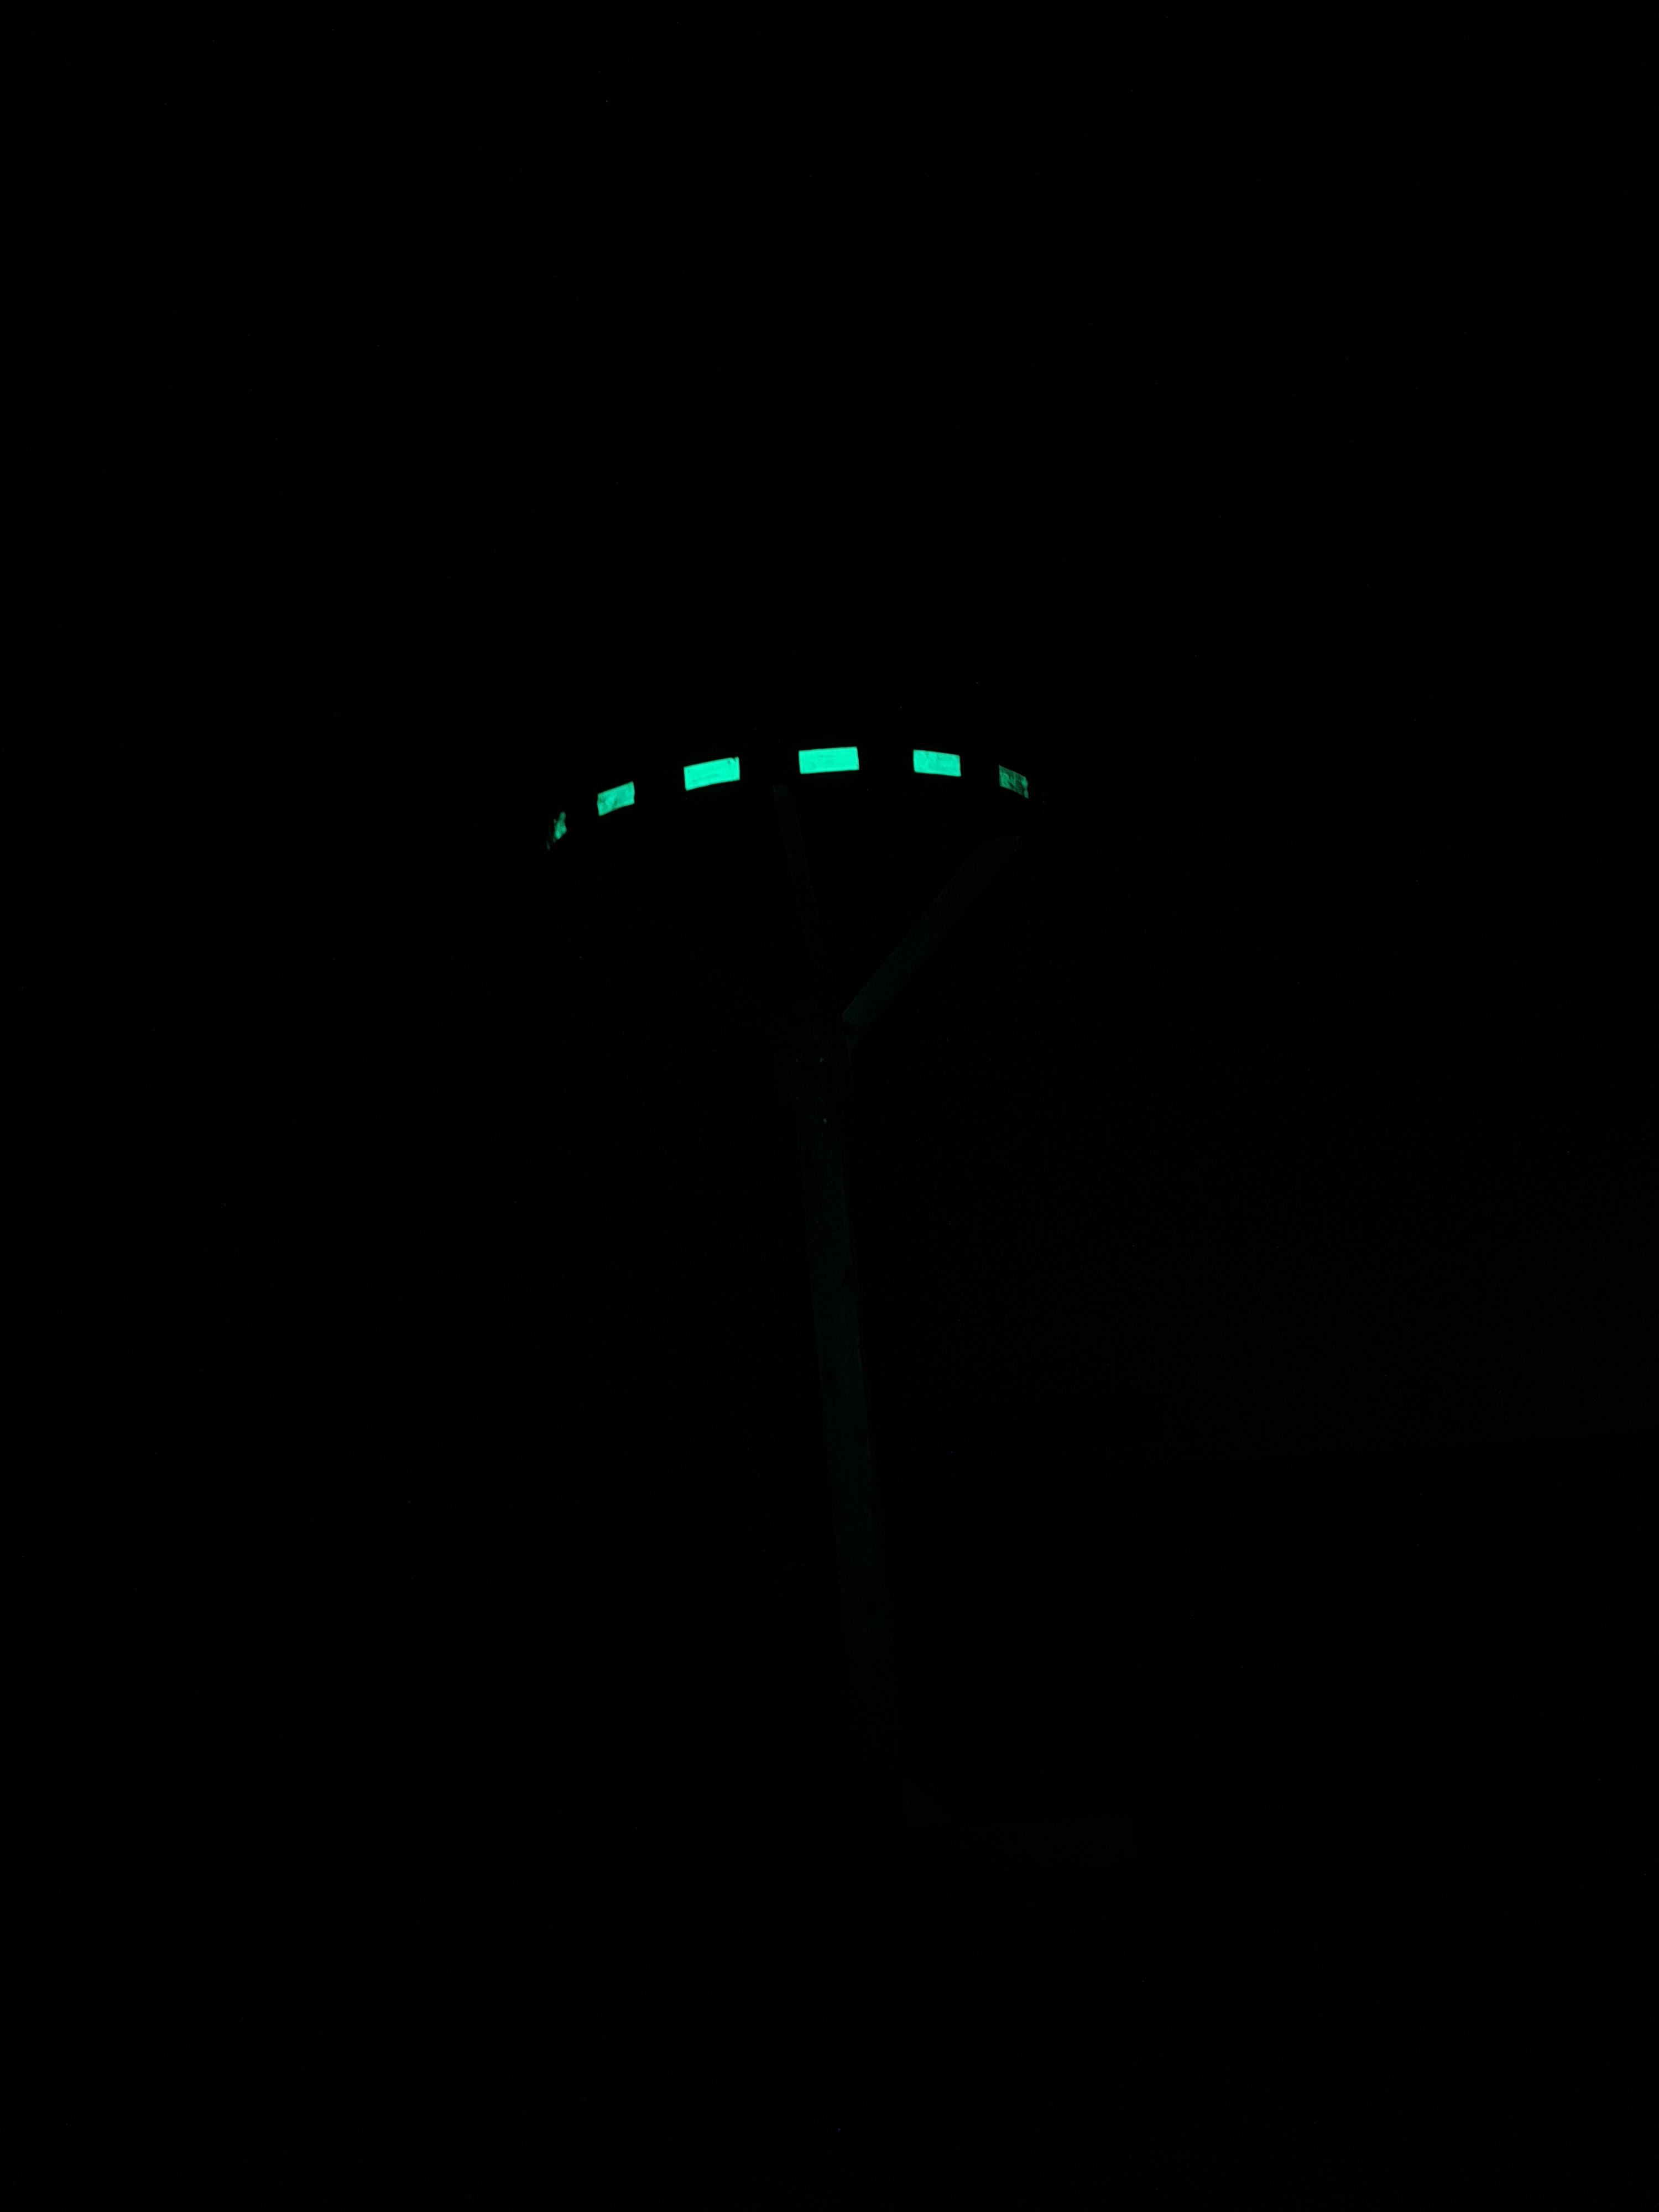hoop: (533, 742, 1058, 853)
